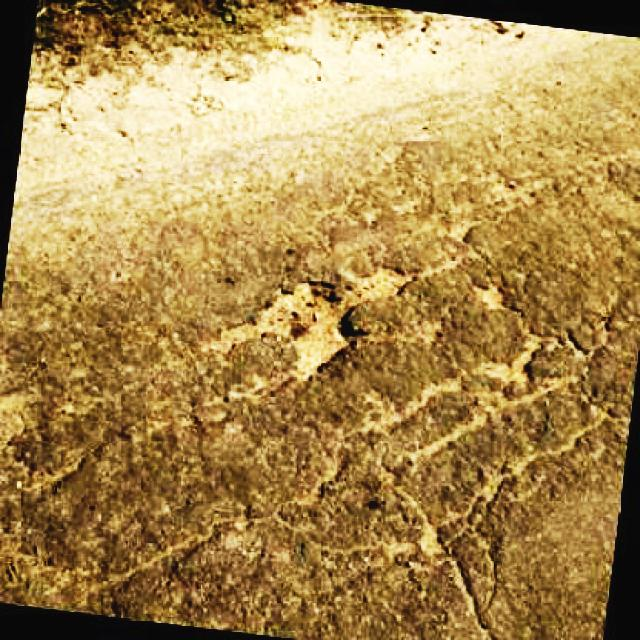pothole: (206, 258, 414, 384)
